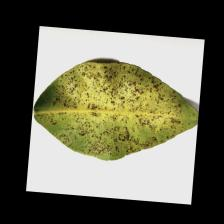canker: (54, 58, 182, 154)
